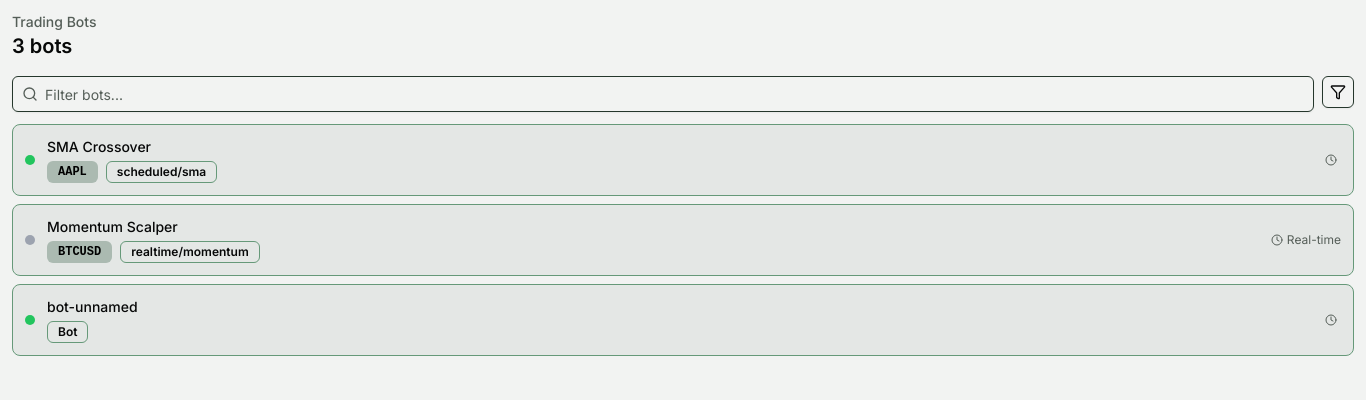
DashboardPage › mobile filtering › filters by status
Click the button named "Filter bots".
click(1338, 92)  # box [1322,76,1354,108]
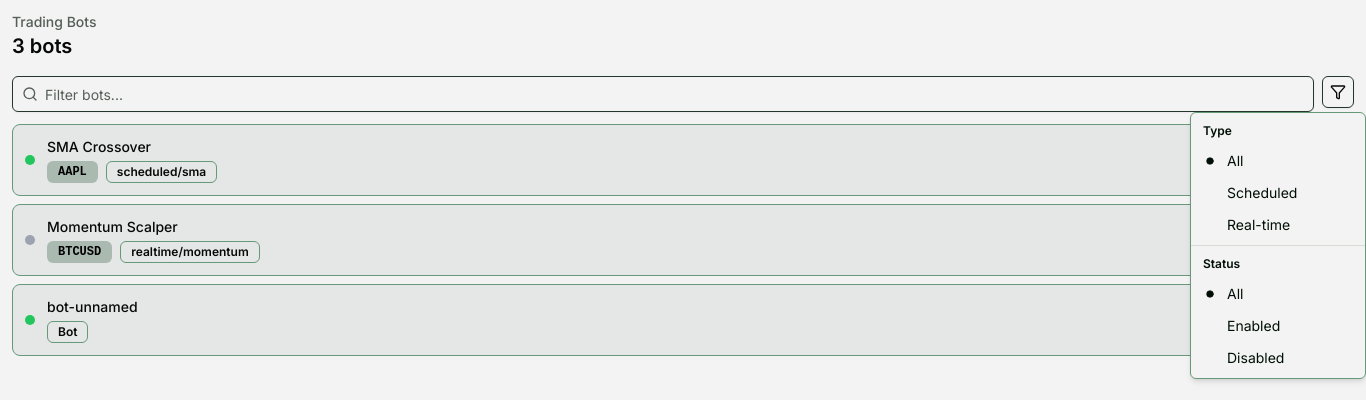
Click the menu item "Enabled".
click(1254, 326)  # box [1227,317,1280,334]
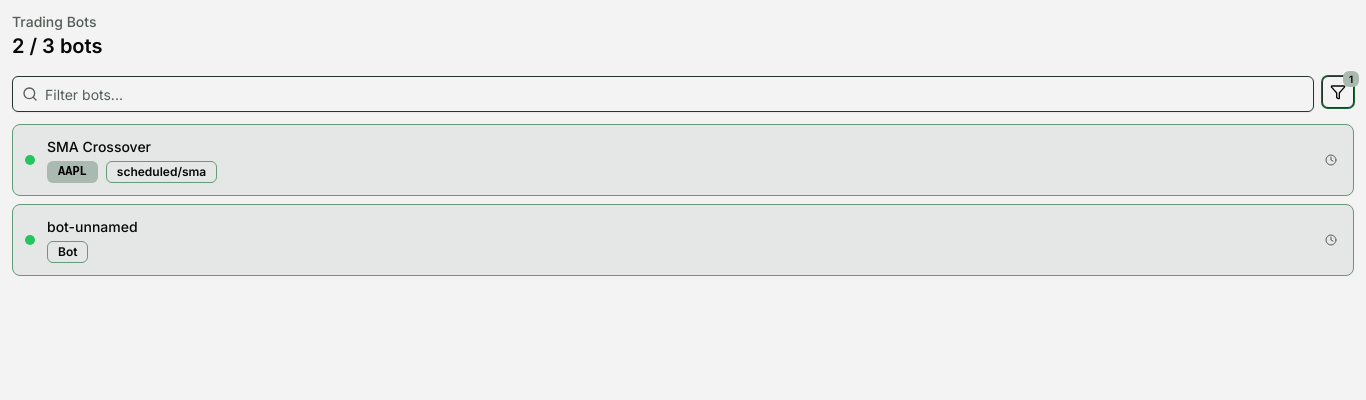
Check: the text "2 / 3 bots" is shown, box [12,34,102,58]
Check: the button "Momentum Scalper" is gone
